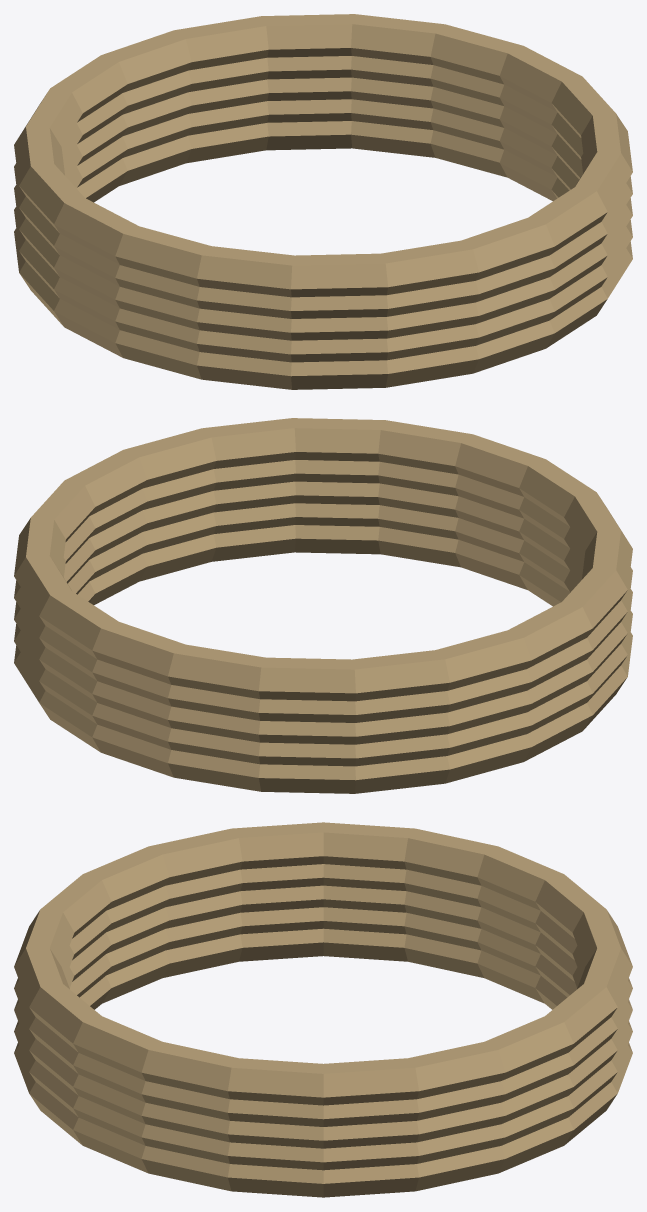
The model's file is objects-rope.lod0.glb.
The picture shows the model from 3 angles, top to bottom: view 1: azimuth 30°, elevation 25°; view 2: azimuth 150°, elevation 25°; view 3: azimuth 270°, elevation 25°; orthographic projection.
Visible parts, largest first — view 1: objects-rope__body; view 2: objects-rope__body; view 3: objects-rope__body.
Boxes of the visible parts, x1,y1,x2,y2 form: objects-rope__body: [14, 14, 632, 389]; objects-rope__body: [14, 418, 632, 793]; objects-rope__body: [14, 822, 632, 1197].
Bounding box in the file's own units: 0.65 × 0.1433 × 0.65.
